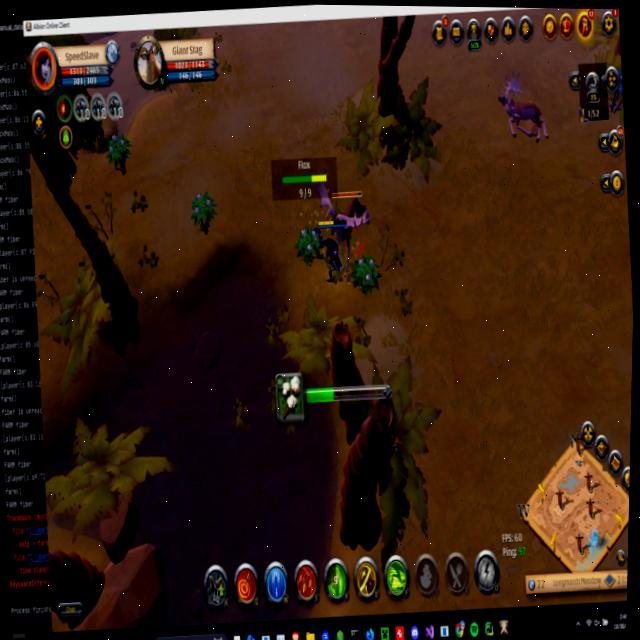hide: (349, 248, 381, 300), (187, 184, 218, 236), (294, 220, 323, 269), (104, 129, 132, 172)
mob: (493, 66, 553, 148)
ore: (325, 185, 373, 259)
red: (315, 215, 350, 284)
